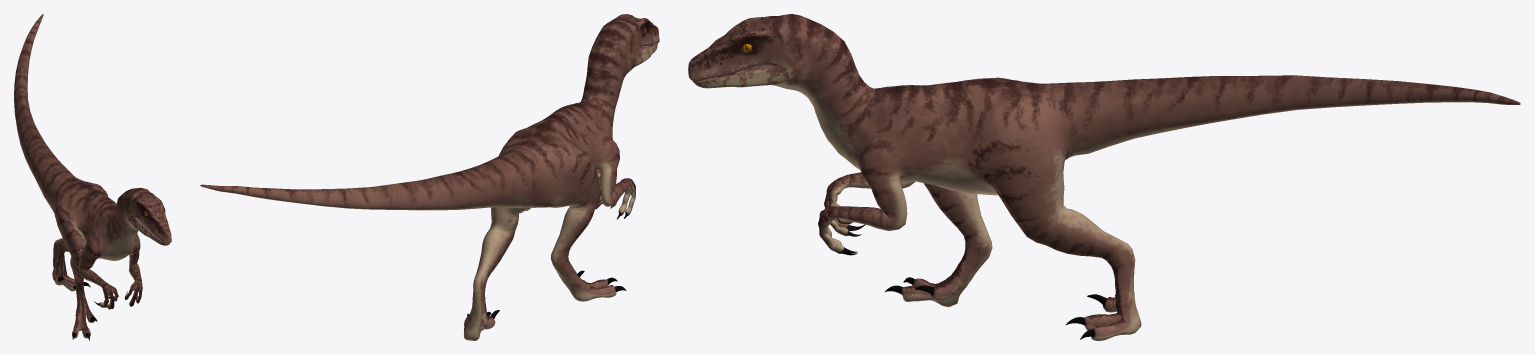
File: Velociraptor pose V1.fbx
The picture shows the model from 3 angles, left to right: view 1: azimuth 30°, elevation 25°; view 2: azimuth 150°, elevation 25°; view 3: azimuth 270°, elevation 25°; orthographic projection. The views are drawn at different scales.
Parts seen in each view (by area): view 1: Body.001; view 2: Body.001; view 3: Body.001.
Part boxes in pixels (x1,y1,x2,y2): Body.001: (14, 14, 171, 340); Body.001: (200, 14, 659, 340); Body.001: (688, 14, 1520, 340).
Size of the model in its own units: 154 by 178 by 436.
4 materials, 4 textured.
